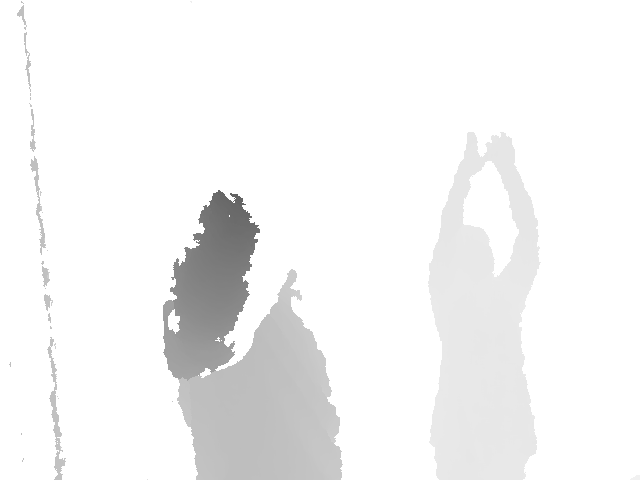hand: (458, 129, 486, 172), (485, 131, 517, 166)
head: (451, 223, 495, 280)
person: (427, 129, 542, 480)
